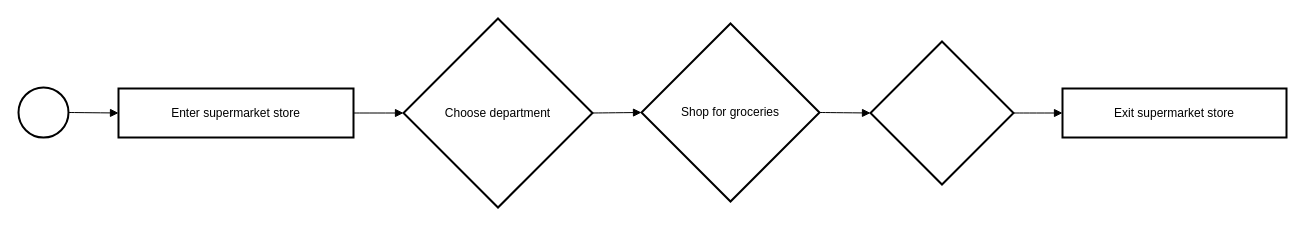
This 1304x225 diagram has some shape labels left out. The centre of each missing label's shape, as x and y in pixels:
Pay for items: point (941, 112)
Start: point (43, 112)
